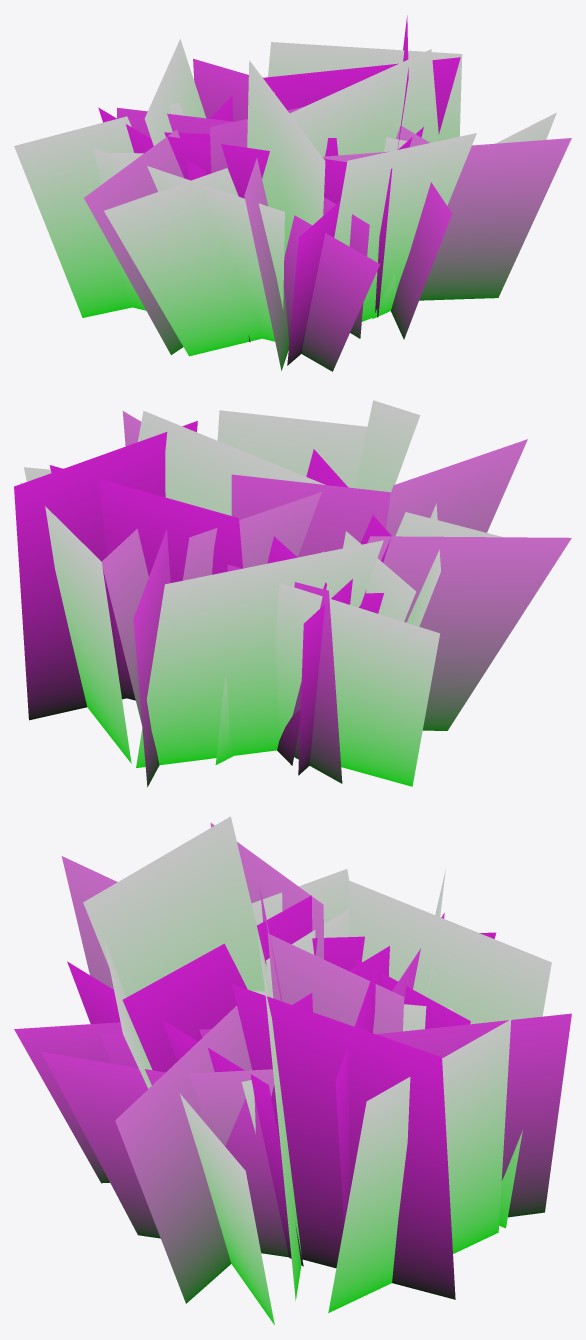
The model's file is PT_Grass_02.fbx.
3 views of the same model, one above another, from view 1: azimuth 30°, elevation 25°; view 2: azimuth 150°, elevation 25°; view 3: azimuth 270°, elevation 25° (orthographic). The views are drawn at different scales.
Visible parts, largest first — view 1: PT_Grass_02_LOD0; view 2: PT_Grass_02_LOD0; view 3: PT_Grass_02_LOD0.
Part boxes in pixels (<box>): PT_Grass_02_LOD0: <box>14,15,571,371</box>; PT_Grass_02_LOD0: <box>14,400,571,787</box>; PT_Grass_02_LOD0: <box>14,816,571,1324</box>.
Size of what is drawn, in the model's own units: 124 by 68.42 by 99.38.
